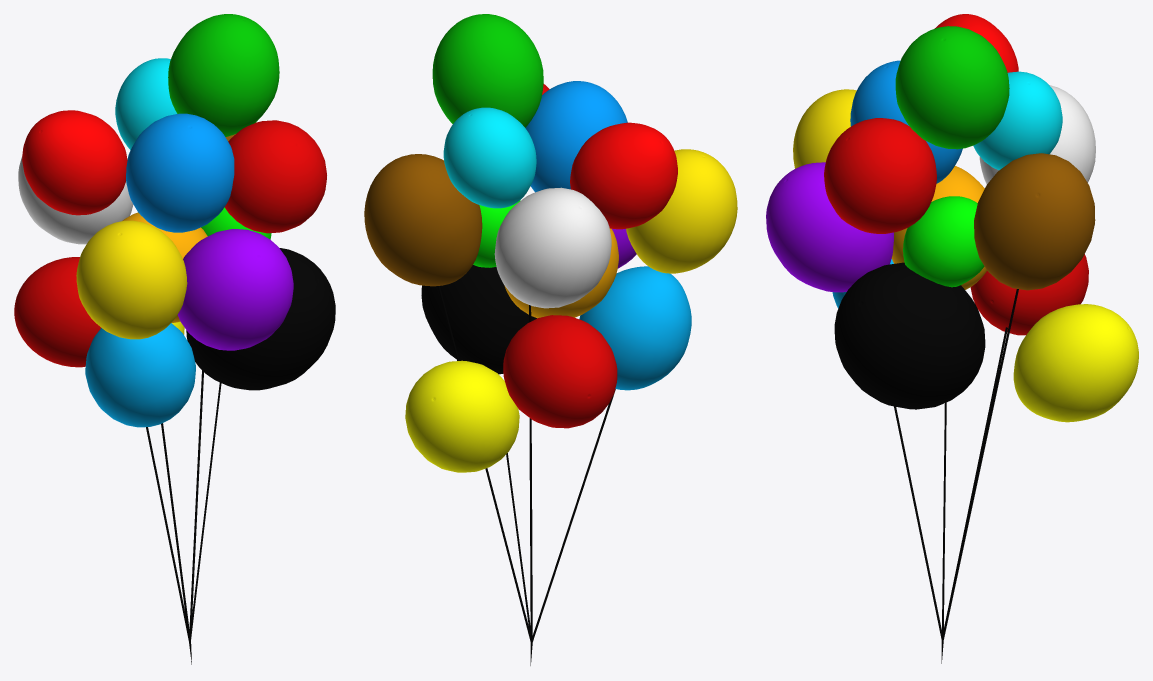
The model's file is Globo.fbx.
3 views of the same model, side by side, from view 1: azimuth 30°, elevation 25°; view 2: azimuth 150°, elevation 25°; view 3: azimuth 270°, elevation 25° (orthographic). The views are drawn at different scales.
Visible parts, largest first — view 1: pSphere11, pSphere13, pSphere20, pSphere17, pSphere10, pSphere21, pSphere19, pSphere12, pSphere16, pSphere22, pSphere14, globos2:GLOBOS:polySurface2 (+2 smaller); view 2: pSphere15, pSphere14, pSphere16, pSphere8, pSphere17, pSphere19, pSphere21, pSphere13, pSphere22, pSphere12, pSphere20, globos2:GLOBOS:polySurface2 (+2 smaller); view 3: pSphere12, pSphere15, pSphere8, pSphere17, pSphere10, pSphere11, pSphere23, pSphere22, pSphere16, pSphere13, pSphere20, globos2:GLOBOS:polySurface2 (+3 smaller).
Part boxes in pixels (x1,y1,x2,y2): pSphere11: (177,229,293,350); pSphere13: (76,220,187,339); pSphere20: (126,113,234,232); pSphere17: (168,14,279,136); pSphere10: (224,120,326,233); pSphere21: (22,110,127,215); pSphere19: (85,323,195,427); pSphere12: (186,248,335,390); pSphere16: (14,257,100,367); pSphere22: (115,58,177,149); pSphere14: (18,156,133,244); globos2:GLOBOS:polySurface2: (146,370,221,664); pSphere15: (364,154,482,286); pSphere14: (494,187,611,308); pSphere16: (503,315,617,428); pSphere8: (405,360,519,472); pSphere17: (432,14,543,127); pSphere19: (579,266,691,390); pSphere21: (570,122,677,229); pSphere13: (626,149,737,273); pSphere22: (443,107,536,208); pSphere12: (421,265,536,374); pSphere20: (525,81,627,192); globos2:GLOBOS:polySurface2: (437,286,615,665); pSphere12: (834,262,985,409); pSphere15: (974,153,1095,290); pSphere8: (1013,304,1138,422); pSphere17: (895,26,1009,149); pSphere10: (824,118,936,233); pSphere11: (766,162,893,292); pSphere23: (903,196,984,287); pSphere22: (973,71,1062,170); pSphere16: (970,254,1088,335); pSphere13: (793,89,856,168); pSphere20: (850,60,962,183); globos2:GLOBOS:polySurface2: (894,289,1018,663).
Size of the model in its own units: 806 by 1819 by 936.
